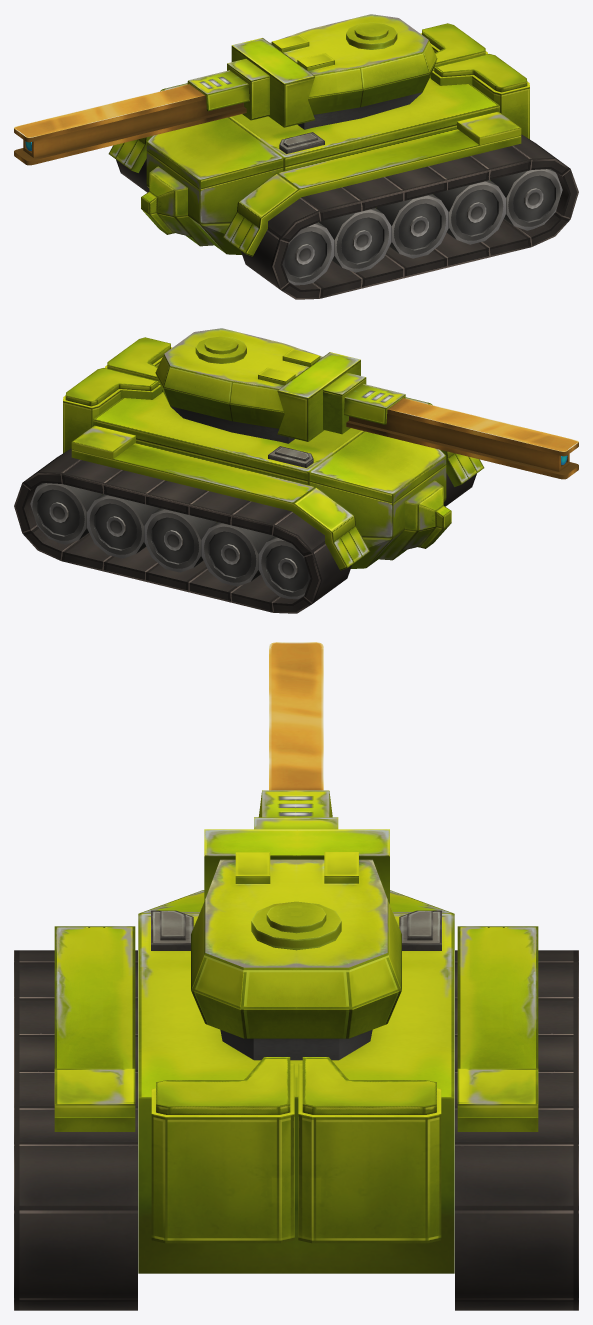
File: tank2_level1.FBX
3 views of the same model, one above another, from view 1: azimuth 30°, elevation 25°; view 2: azimuth 150°, elevation 25°; view 3: azimuth 270°, elevation 25° (orthographic). The views are drawn at different scales.
Visible parts, largest first — view 1: tank2_level1, Object001, Object002; view 2: tank2_level1, Object001, Object002; view 3: tank2_level1, Object001, Object002.
Part boxes in pixels (x1=…): tank2_level1: x1=108, y1=23, x2=578, y2=299; Object001: x1=227, y1=14, x2=437, y2=129; Object002: x1=14, y1=70, x2=249, y2=165; tank2_level1: x1=14, y1=337, x2=484, y2=613; Object001: x1=155, y1=328, x2=366, y2=443; Object002: x1=343, y1=384, x2=578, y2=479; tank2_level1: x1=14, y1=890, x2=578, y2=1310; Object001: x1=191, y1=817, x2=401, y2=1060; Object002: x1=259, y1=642, x2=332, y2=817.
Size of the model in its own units: 65.65 by 23.39 by 37.98.
